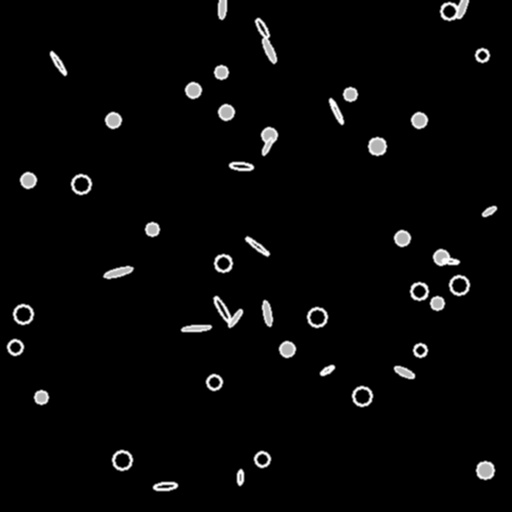pseudomonas: (212, 295, 232, 323), (244, 236, 270, 256), (49, 50, 67, 76), (260, 37, 278, 63), (328, 98, 344, 124), (104, 265, 132, 279), (254, 18, 270, 38), (227, 308, 243, 328), (394, 365, 414, 379), (455, 0, 469, 19), (262, 300, 272, 326), (229, 161, 253, 171), (261, 136, 273, 156), (181, 324, 211, 332), (319, 364, 335, 376), (481, 205, 497, 217), (154, 482, 176, 490), (441, 257, 459, 265), (218, 0, 226, 18), (237, 469, 243, 485)
synechocystis: (308, 308, 326, 326), (353, 387, 371, 405), (113, 451, 131, 469), (450, 276, 468, 294), (72, 175, 90, 193), (14, 305, 32, 323), (369, 138, 385, 154), (477, 462, 493, 478), (411, 283, 427, 299), (441, 3, 457, 19), (215, 255, 231, 271), (186, 83, 200, 97), (280, 342, 294, 356), (21, 173, 35, 187), (8, 340, 22, 354), (106, 113, 120, 127), (434, 250, 448, 264), (255, 452, 269, 466), (412, 113, 426, 127), (207, 375, 221, 389), (219, 105, 233, 119), (262, 128, 276, 142), (395, 231, 409, 245), (476, 49, 488, 61), (35, 391, 47, 403), (344, 88, 356, 100), (215, 66, 227, 78), (414, 344, 426, 356), (431, 297, 443, 309), (146, 223, 158, 235)
